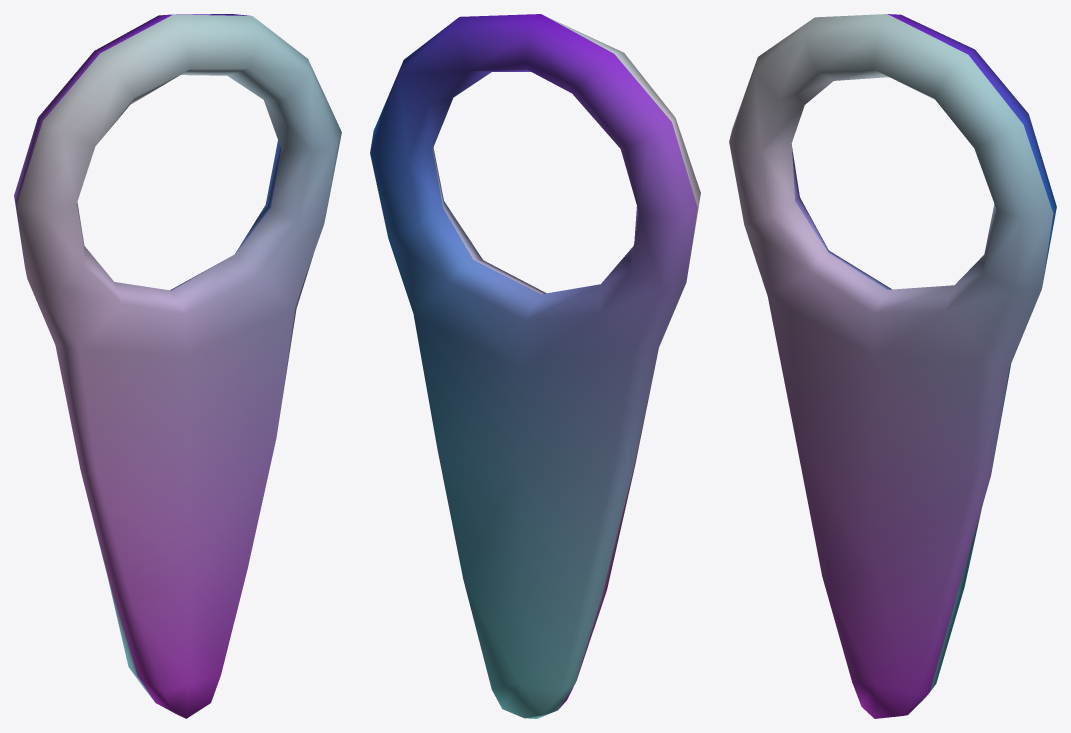
The picture shows the model from 3 angles, left to right: view 1: azimuth 30°, elevation 25°; view 2: azimuth 150°, elevation 25°; view 3: azimuth 330°, elevation 25°; orthographic projection.
Visible parts, largest first — view 1: SM_CrossbowBolt_Adamant_01_LOD0; view 2: SM_CrossbowBolt_Adamant_01_LOD0; view 3: SM_CrossbowBolt_Adamant_01_LOD0.
Part boxes in pixels (x1,y1,x2,y2): SM_CrossbowBolt_Adamant_01_LOD0: (14,14,341,718); SM_CrossbowBolt_Adamant_01_LOD0: (370,14,700,718); SM_CrossbowBolt_Adamant_01_LOD0: (729,14,1056,718).
Bounding box in the file's own units: 0.0634 × 0.1311 × 0.011.
